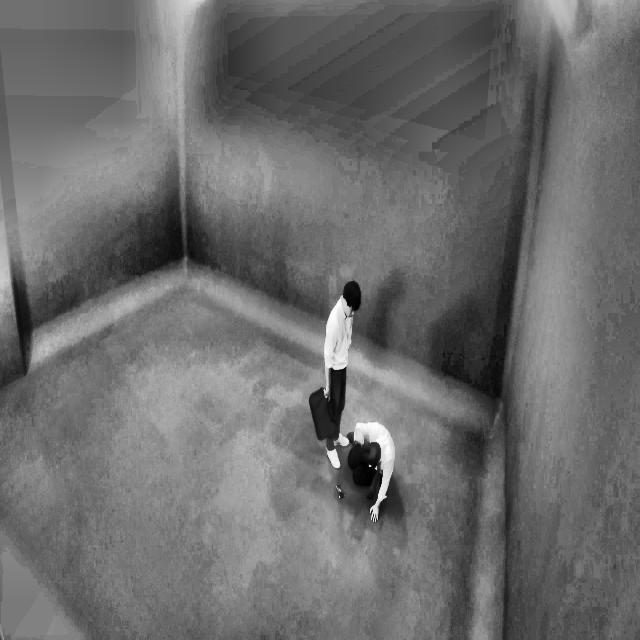assult: (308, 258, 409, 527), (344, 407, 401, 524)
